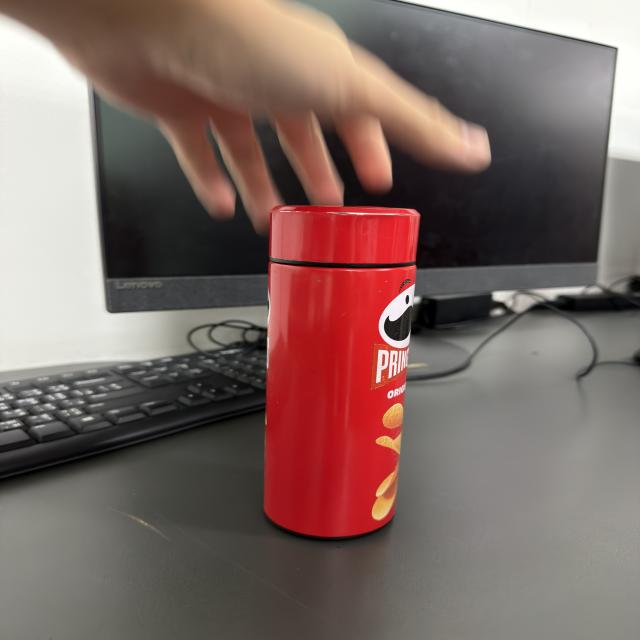water bottle: (260, 202, 423, 546)
